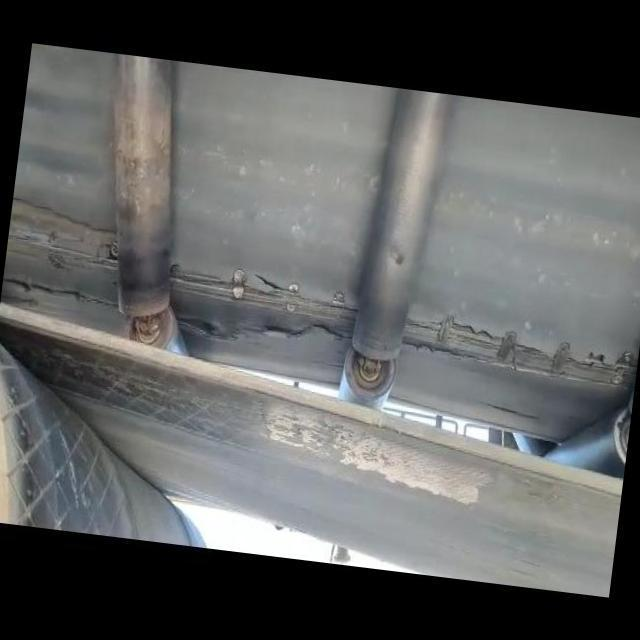Tear: (398, 300, 640, 392), (164, 270, 362, 342), (10, 192, 124, 268), (1, 268, 125, 322), (477, 390, 546, 426)
